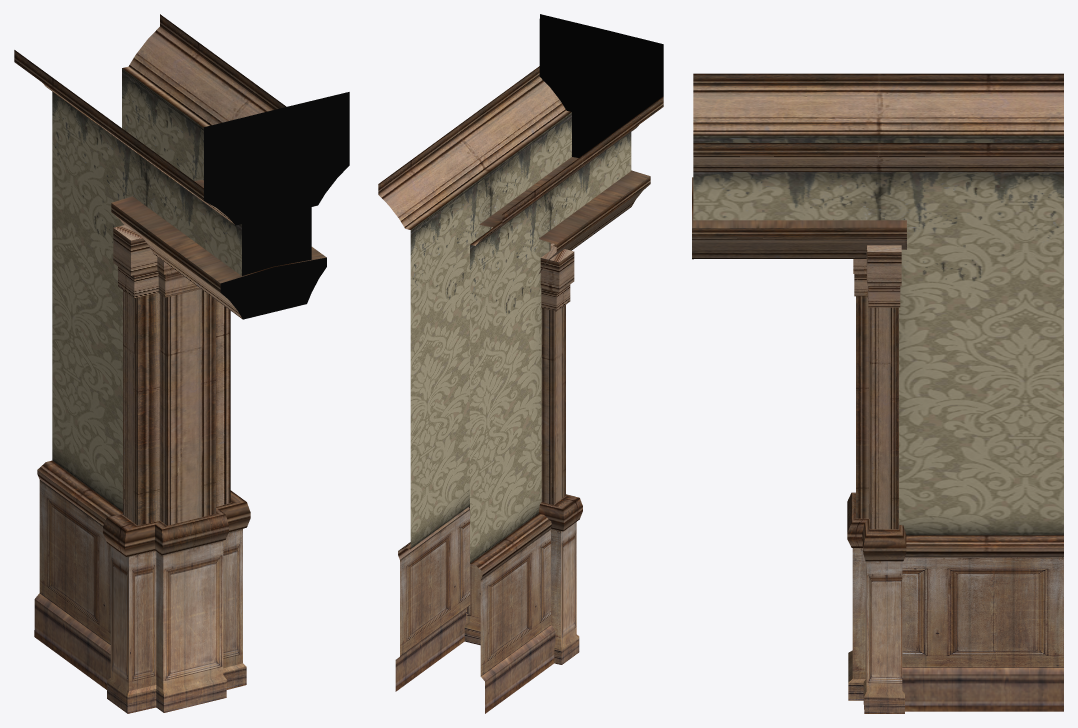
Rendered from Corridor_01_Door.FBX.
The picture shows the model from 3 angles, left to right: view 1: azimuth 30°, elevation 25°; view 2: azimuth 150°, elevation 25°; view 3: azimuth 270°, elevation 25°; orthographic projection. The views are drawn at different scales.
Visible parts, largest first — view 1: SideWall001; view 2: SideWall001; view 3: SideWall001.
Part boxes in pixels (left/top/right/bottom): SideWall001: left=14, top=14, right=349, bottom=713; SideWall001: left=378, top=14, right=663, bottom=713; SideWall001: left=692, top=73, right=1063, bottom=713.
Size of the model in its own units: 21.32 by 91.31 by 48.19.
Materials: 3 (2 with a texture image).
